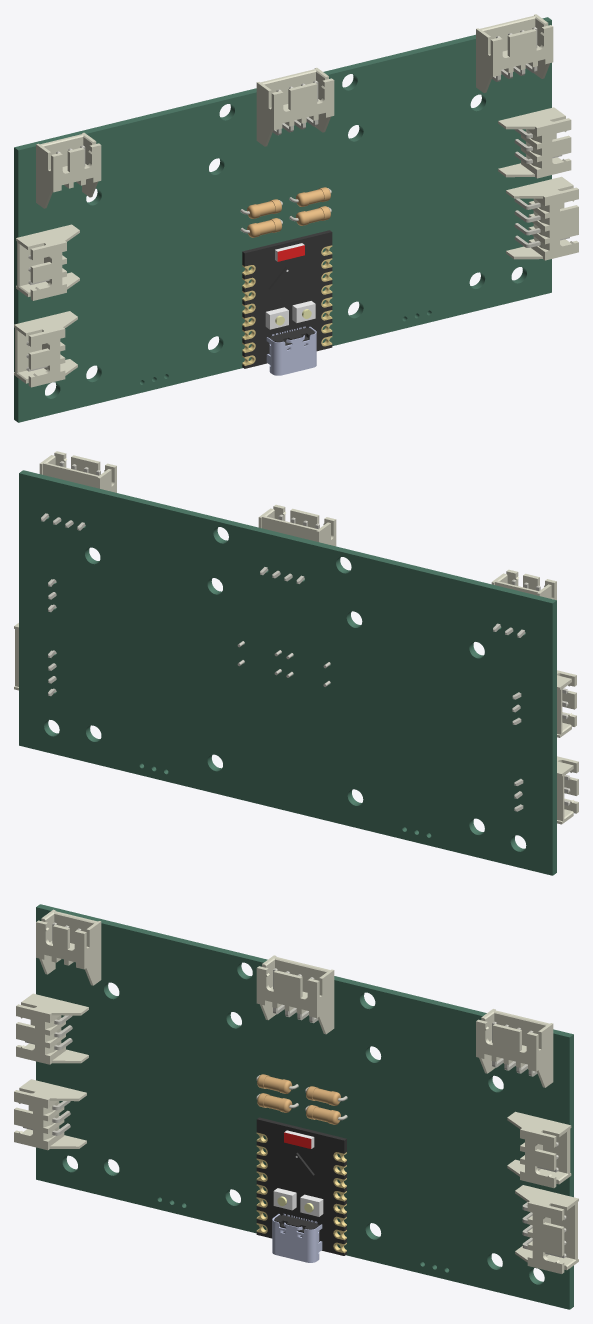
Rendered from scheda.glb.
The picture shows the model from 3 angles, top to bottom: view 1: azimuth 30°, elevation 25°; view 2: azimuth 150°, elevation 25°; view 3: azimuth 330°, elevation 25°; orthographic projection.
Visible parts, largest first — view 1: AquaMind_PCB.step-1, ESP32-C3_SUPERMINI_SMD.step-1/Board c3mini.step-1, JST_XH_S4B-XH-A_1x04_P2.50mm_Horizontal.step-2, JST_XH_S4B-XH-A_1x04_P2.50mm_Horizontal.step-1, JST_XH_S4B-XH-A_1x04_P2.50mm_Horizontal.step-3, JST_XH_S3B-XH-A-1_1x03_P2.50mm_Horizontal.step-3, JST_XH_S3B-XH-A-1_1x03_P2.50mm_Horizontal.step-4, JST_XH_S3B-XH-A-1_1x03_P2.50mm_Horizontal.step-1, JST_XH_S3B-XH-A-1_1x03_P2.50mm_Horizontal.step-2, ESP32-C3_SUPERMINI_SMD.step-1/USB C.step-1, ESP32-C3_SUPERMINI_SMD.step-1/components (other)_ESP32-C3 Su; view 2: AquaMind_PCB.step-1, JST_XH_S4B-XH-A_1x04_P2.50mm_Horizontal.step-1, JST_XH_S4B-XH-A_1x04_P2.50mm_Horizontal.step-3, JST_XH_S3B-XH-A-1_1x03_P2.50mm_Horizontal.step-1, JST_XH_S3B-XH-A-1_1x03_P2.50mm_Horizontal.step-2, JST_XH_S3B-XH-A-1_1x03_P2.50mm_Horizontal.step-4; view 3: AquaMind_PCB.step-1, ESP32-C3_SUPERMINI_SMD.step-1/Board c3mini.step-1, JST_XH_S4B-XH-A_1x04_P2.50mm_Horizontal.step-1, JST_XH_S4B-XH-A_1x04_P2.50mm_Horizontal.step-3, JST_XH_S4B-XH-A_1x04_P2.50mm_Horizontal.step-2, JST_XH_S3B-XH-A-1_1x03_P2.50mm_Horizontal.step-2, JST_XH_S3B-XH-A-1_1x03_P2.50mm_Horizontal.step-1, JST_XH_S3B-XH-A-1_1x03_P2.50mm_Horizontal.step-4, JST_XH_S3B-XH-A-1_1x03_P2.50mm_Horizontal.step-3, ESP32-C3_SUPERMINI_SMD.step-1/USB C.step-1, ESP32-C3_SUPERMINI_SMD.step-1/components (other)_ESP32-C3 Su, R_Axial_DIN0207_L6.3mm_D2.5mm_P7.62mm_Horizontal.step-4.
Boxes of the visible parts, x1=… form: AquaMind_PCB.step-1: x1=14, y1=17, x2=551, y2=422; ESP32-C3_SUPERMINI_SMD.step-1/Board c3mini.step-1: x1=242, y1=230, x2=332, y2=368; JST_XH_S4B-XH-A_1x04_P2.50mm_Horizontal.step-2: x1=506, y1=176, x2=578, y2=260; JST_XH_S4B-XH-A_1x04_P2.50mm_Horizontal.step-1: x1=256, y1=67, x2=334, y2=146; JST_XH_S4B-XH-A_1x04_P2.50mm_Horizontal.step-3: x1=476, y1=14, x2=553, y2=92; JST_XH_S3B-XH-A-1_1x03_P2.50mm_Horizontal.step-3: x1=498, y1=107, x2=571, y2=178; JST_XH_S3B-XH-A-1_1x03_P2.50mm_Horizontal.step-4: x1=36, y1=132, x2=101, y2=208; JST_XH_S3B-XH-A-1_1x03_P2.50mm_Horizontal.step-1: x1=14, y1=311, x2=77, y2=387; JST_XH_S3B-XH-A-1_1x03_P2.50mm_Horizontal.step-2: x1=16, y1=224, x2=79, y2=300; ESP32-C3_SUPERMINI_SMD.step-1/USB C.step-1: x1=266, y1=326, x2=316, y2=375; ESP32-C3_SUPERMINI_SMD.step-1/components (other)_ESP32-C3 Su: x1=265, y1=243, x2=315, y2=329; AquaMind_PCB.step-1: x1=19, y1=470, x2=556, y2=875; JST_XH_S4B-XH-A_1x04_P2.50mm_Horizontal.step-1: x1=258, y1=504, x2=336, y2=583; JST_XH_S4B-XH-A_1x04_P2.50mm_Horizontal.step-3: x1=39, y1=451, x2=116, y2=530; JST_XH_S3B-XH-A-1_1x03_P2.50mm_Horizontal.step-1: x1=514, y1=756, x2=578, y2=824; JST_XH_S3B-XH-A-1_1x03_P2.50mm_Horizontal.step-2: x1=512, y1=670, x2=576, y2=737; JST_XH_S3B-XH-A-1_1x03_P2.50mm_Horizontal.step-4: x1=491, y1=569, x2=556, y2=637; AquaMind_PCB.step-1: x1=36, y1=904, x2=573, y2=1309; ESP32-C3_SUPERMINI_SMD.step-1/Board c3mini.step-1: x1=256, y1=1117, x2=346, y2=1255; JST_XH_S4B-XH-A_1x04_P2.50mm_Horizontal.step-1: x1=256, y1=955, x2=334, y2=1034; JST_XH_S4B-XH-A_1x04_P2.50mm_Horizontal.step-3: x1=476, y1=1009, x2=553, y2=1087; JST_XH_S4B-XH-A_1x04_P2.50mm_Horizontal.step-2: x1=515, y1=1185, x2=578, y2=1273; JST_XH_S3B-XH-A-1_1x03_P2.50mm_Horizontal.step-2: x1=16, y1=993, x2=88, y2=1064; JST_XH_S3B-XH-A-1_1x03_P2.50mm_Horizontal.step-1: x1=14, y1=1079, x2=86, y2=1150; JST_XH_S3B-XH-A-1_1x03_P2.50mm_Horizontal.step-4: x1=36, y1=909, x2=101, y2=985; JST_XH_S3B-XH-A-1_1x03_P2.50mm_Horizontal.step-3: x1=507, y1=1111, x2=571, y2=1188; ESP32-C3_SUPERMINI_SMD.step-1/USB C.step-1: x1=272, y1=1214, x2=322, y2=1262; ESP32-C3_SUPERMINI_SMD.step-1/components (other)_ESP32-C3 Su: x1=273, y1=1130, x2=323, y2=1216; R_Axial_DIN0207_L6.3mm_D2.5mm_P7.62mm_Horizontal.step-4: x1=256, y1=1093, x2=298, y2=1112.
Size of the model in its own units: 0.1126 by 0.0565 by 0.0095.
